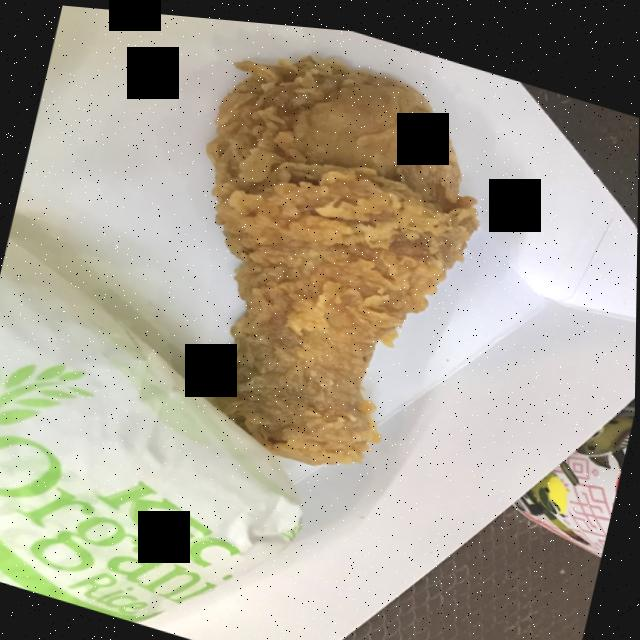Frango: (142, 20, 539, 515)
